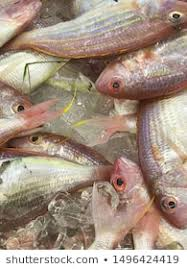Ikan Kerisi: (92, 147, 163, 260), (89, 36, 187, 101), (136, 121, 187, 237)
